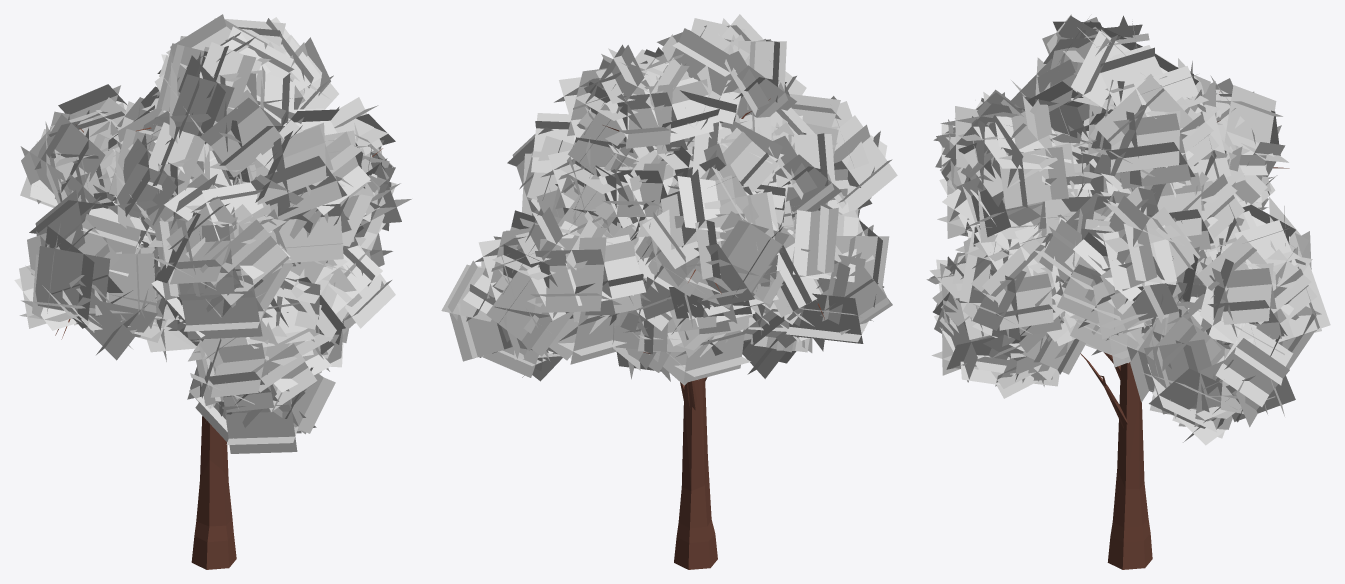
File: tree2.glb
3 renders of one model, left to right at view 1: azimuth 30°, elevation 25°; view 2: azimuth 150°, elevation 25°; view 3: azimuth 270°, elevation 25°, orthographic. The views are drawn at different scales.
Parts seen in each view (by area): view 1: leavesAnim, treeAnim; view 2: leavesAnim, treeAnim; view 3: leavesAnim, treeAnim.
Part boxes in pixels (box(x1,y1,x2,y2)): leavesAnim: box(14, 14, 411, 453); treeAnim: box(55, 111, 382, 569); leavesAnim: box(441, 14, 897, 385); treeAnim: box(603, 98, 824, 569); leavesAnim: box(926, 14, 1330, 445); treeAnim: box(1080, 92, 1289, 569).
Bounding box in the file's own units: 23.27 × 30.69 × 20.81.
